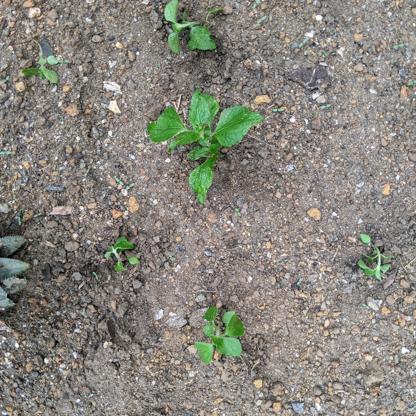weed: (148, 90, 266, 206), (192, 300, 247, 366), (163, 2, 217, 56), (24, 41, 67, 87), (356, 232, 394, 283), (103, 234, 140, 272)
